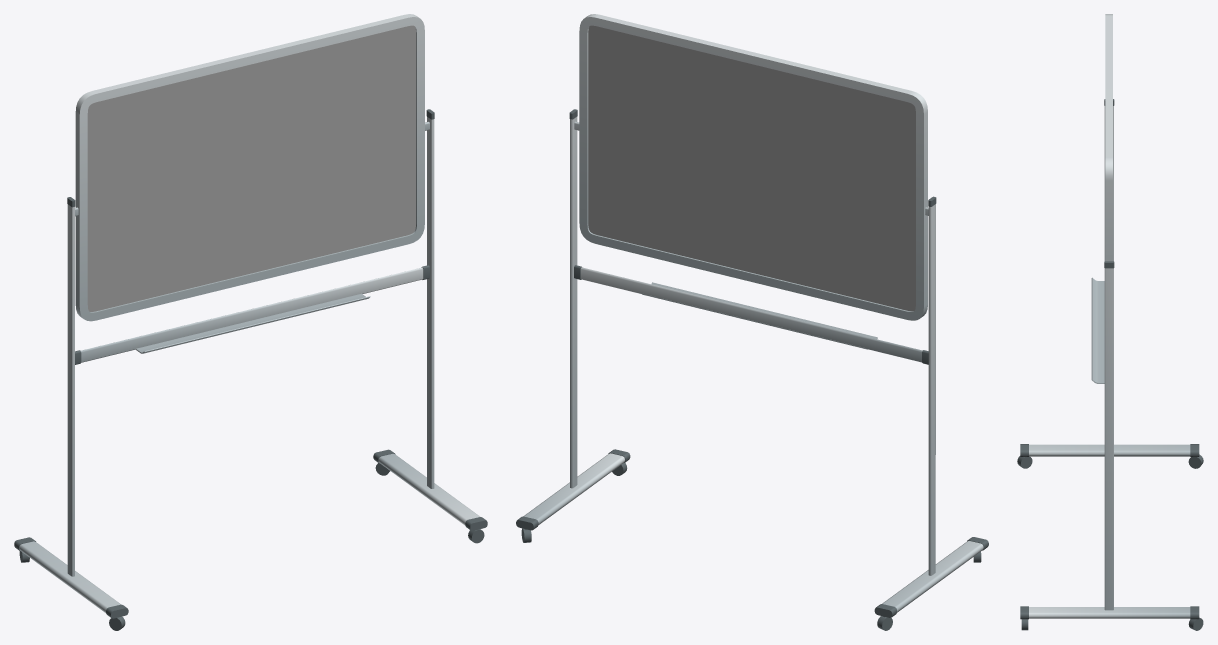
File: Whiteboard.fbx
3 views of the same model, side by side, from view 1: azimuth 30°, elevation 25°; view 2: azimuth 150°, elevation 25°; view 3: azimuth 270°, elevation 25° (orthographic). The views are drawn at different scales.
Parts seen in each view (by area): view 1: Whiteboard:pCube3; view 2: Whiteboard:pCube3; view 3: Whiteboard:pCube3.
Boxes of the visible parts, left/top/right/bottom form: Whiteboard:pCube3: left=14, top=14, right=487, bottom=630; Whiteboard:pCube3: left=516, top=14, right=988, bottom=630; Whiteboard:pCube3: left=1017, top=14, right=1203, bottom=630.
Bounding box in the file's own units: 152 × 192 × 70.21.
2 materials, 1 textured.
